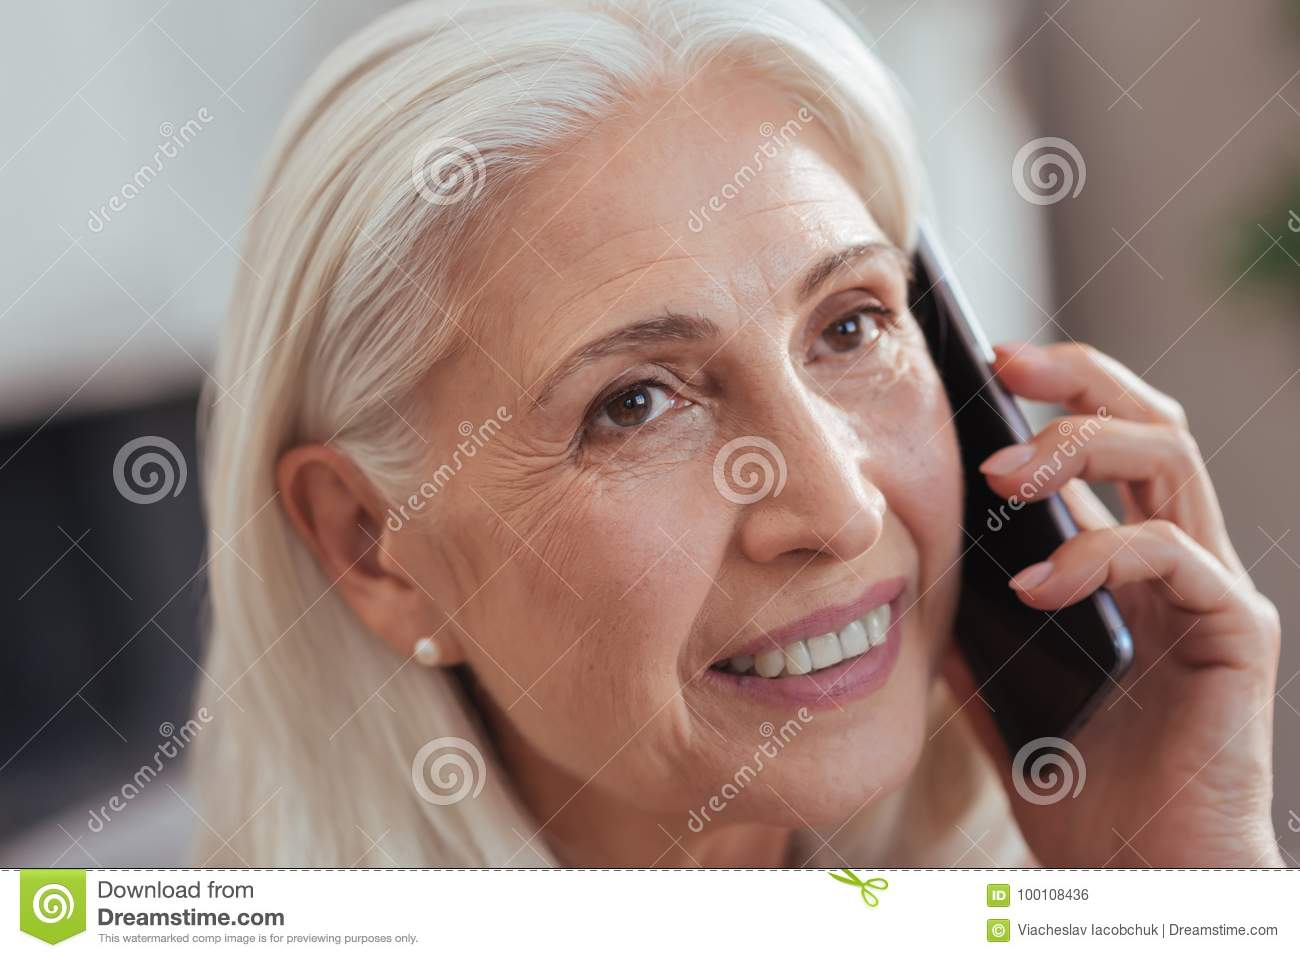phone: (894, 212, 1144, 775)
talk: (514, 210, 1284, 871)
